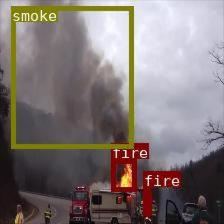fire: (110, 159, 136, 190), (142, 186, 151, 214)
smoke: (10, 5, 132, 148)
